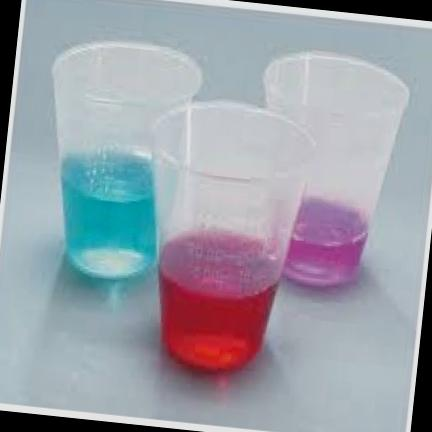container: (154, 100, 313, 367), (52, 41, 202, 277), (266, 51, 408, 284)
fluid: (162, 275, 274, 367), (63, 182, 156, 274), (289, 236, 362, 277)
fluid-surface: (163, 225, 277, 290), (62, 156, 153, 200), (296, 202, 363, 240)
